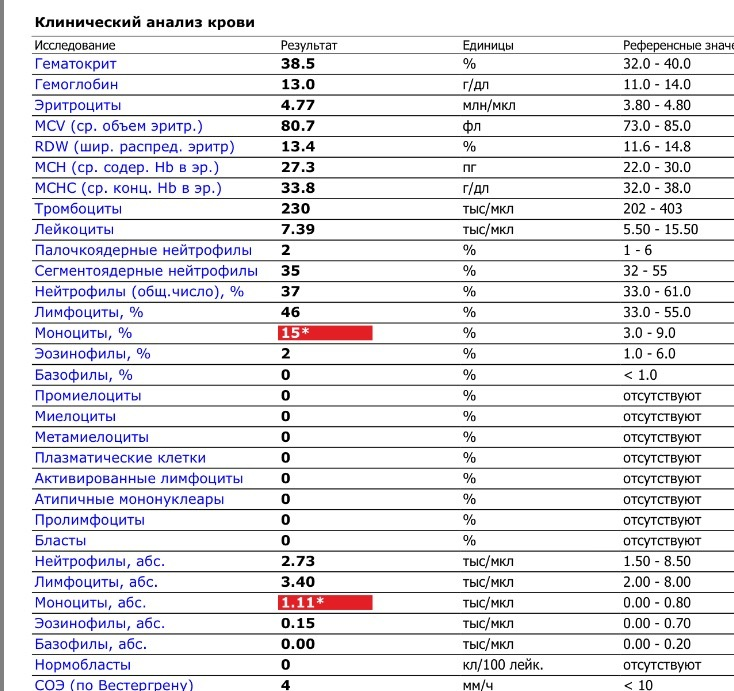column: (33, 36, 258, 691), (622, 36, 734, 691), (461, 36, 544, 691), (279, 36, 338, 691)
